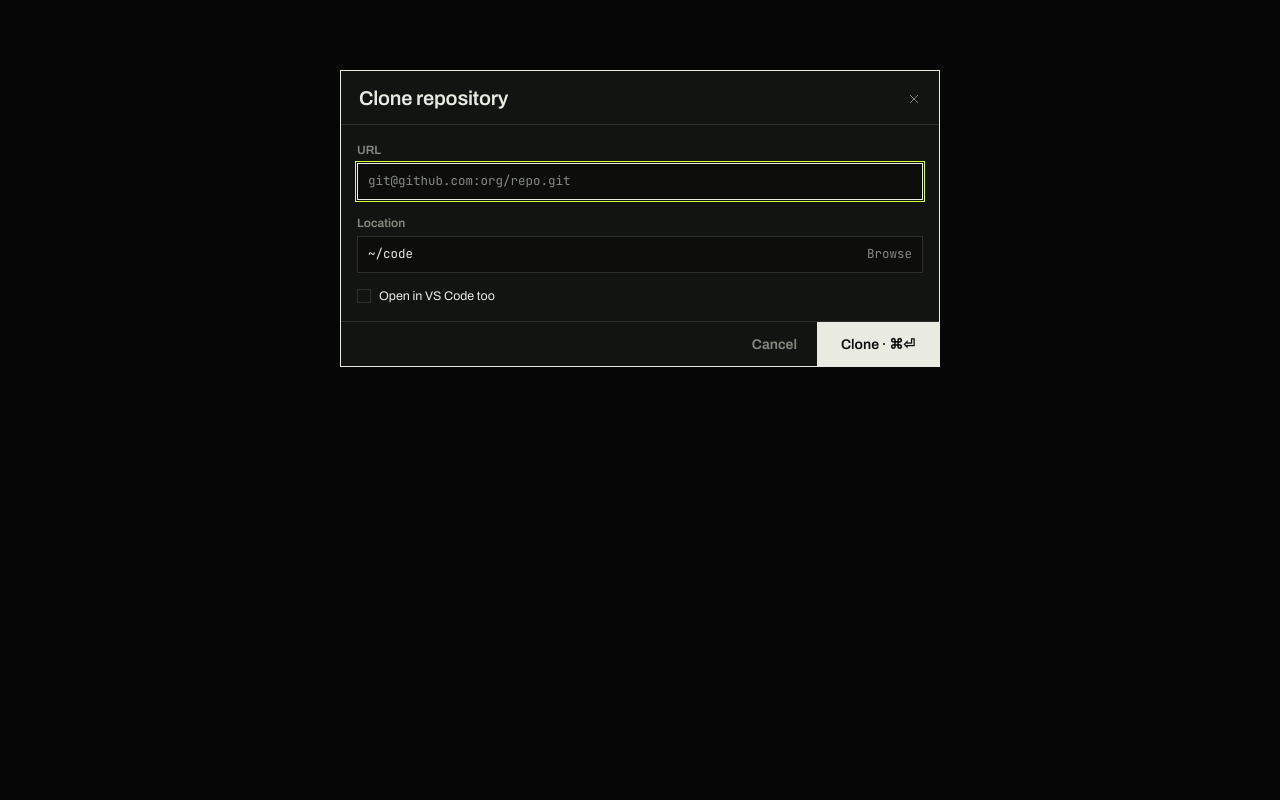
Test: NewProjectModal › clone mode › a failed clone keeps the modal open with the failure text
This screenshot has width=1280, height=800.
Type "https://h/o/r" into the field labelled "URL". click: (640, 181)
box: [368,172,912,191]
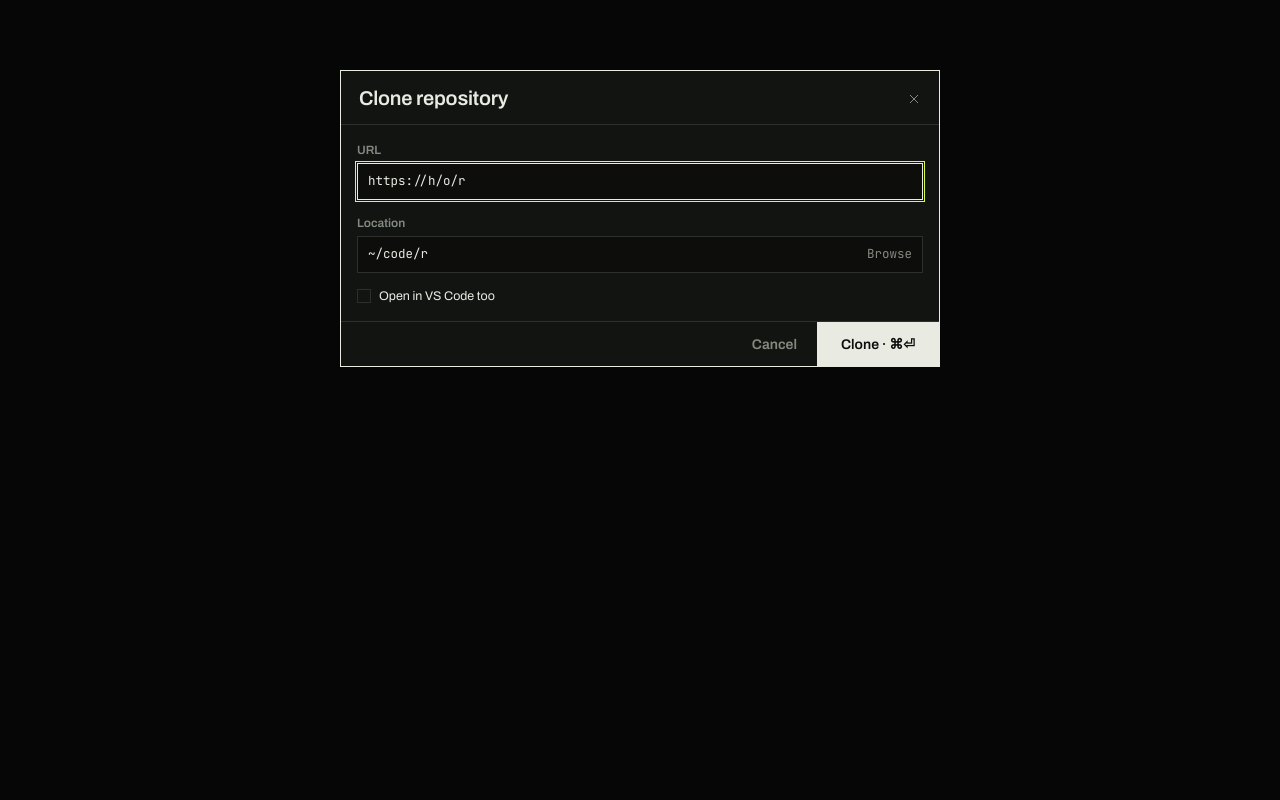
Click the button "Clone · ⌘⏎". click: (878, 344)
box: [817,322,939,366]
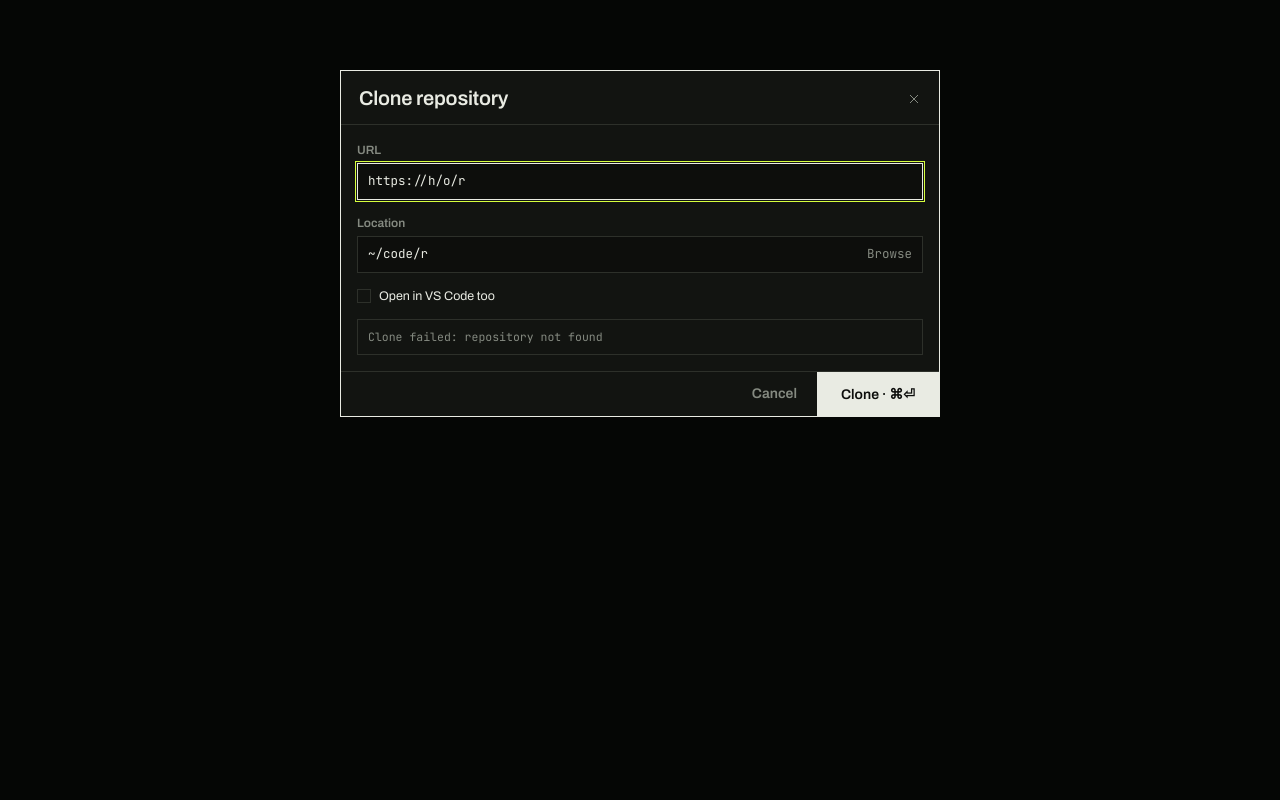
Expected: the dialog is shown, [340,70,940,416]
Result: the message reads "Clone failed: repository not found" at [368,329,603,344]
